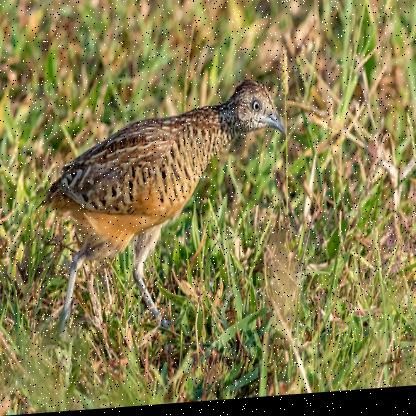Burung: (37, 81, 287, 339)
